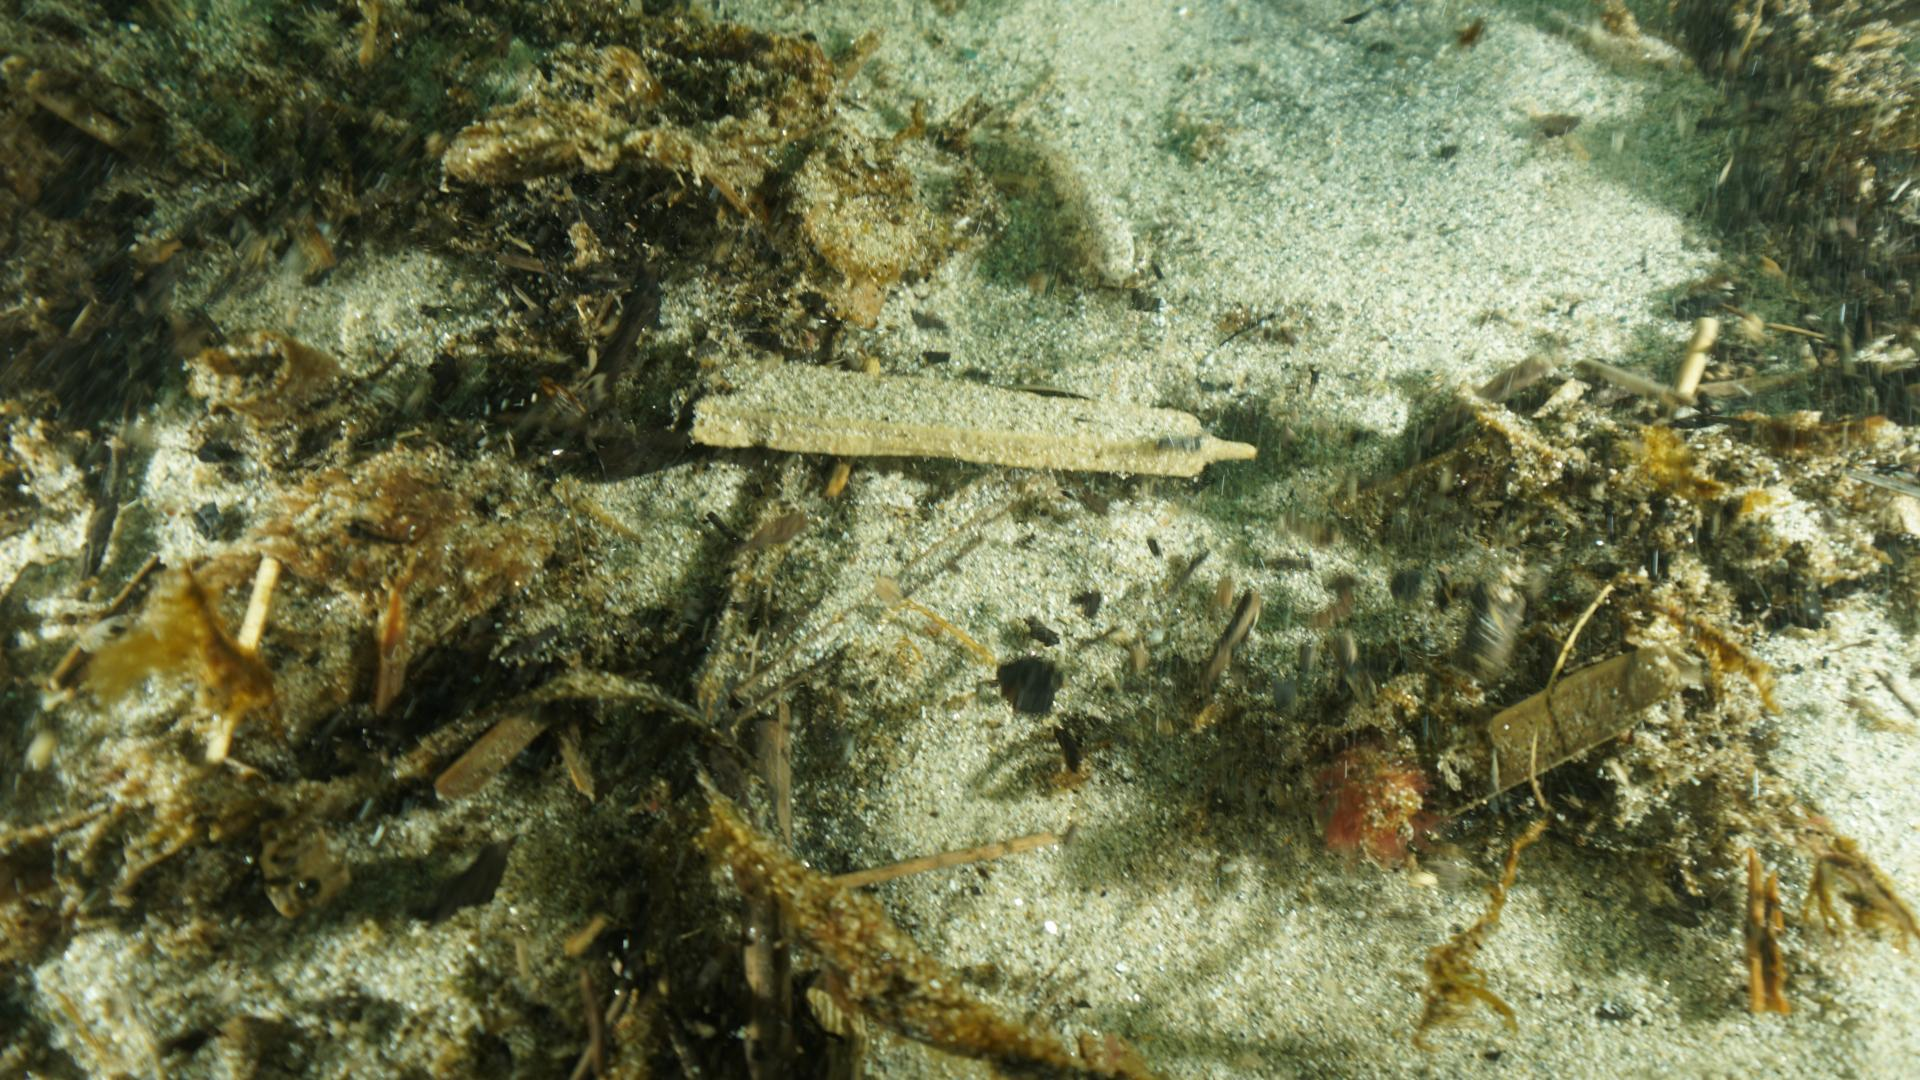wood: (630, 343, 1261, 480)
